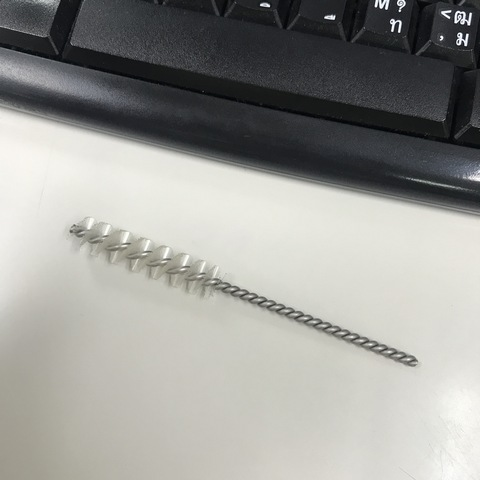Twist Brush-B: (61, 205, 418, 370)
